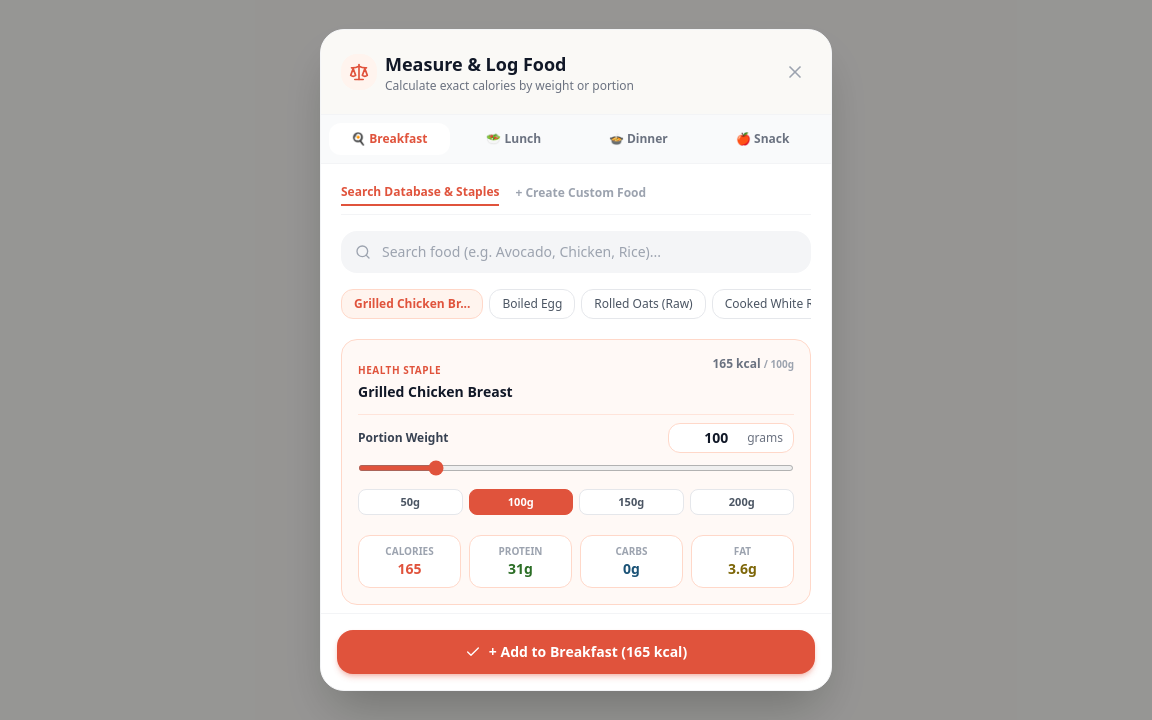
FoodMeasurerModal Component › calculates and updates calories when gram input changes
Replace the text in the number field named "Gram Weight" with "200" at [711, 438], box [679,428,743,448]
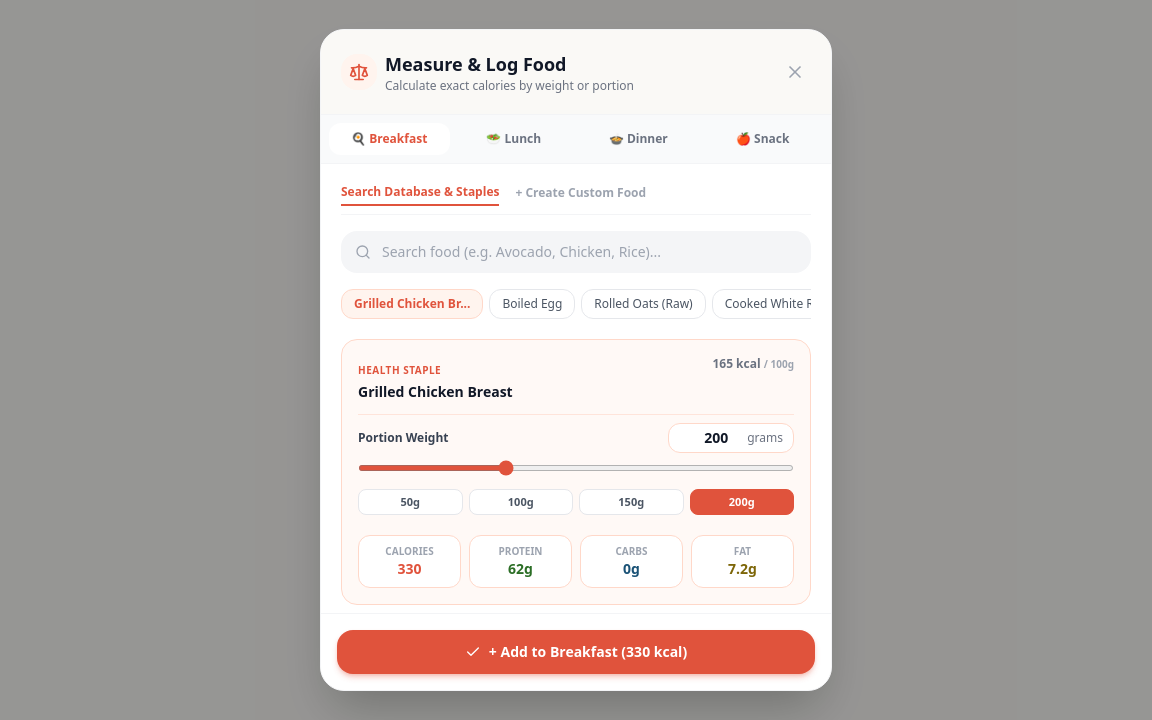
Expected: the text with test id "computed-calories" reads "330", [398,559,422,578]
